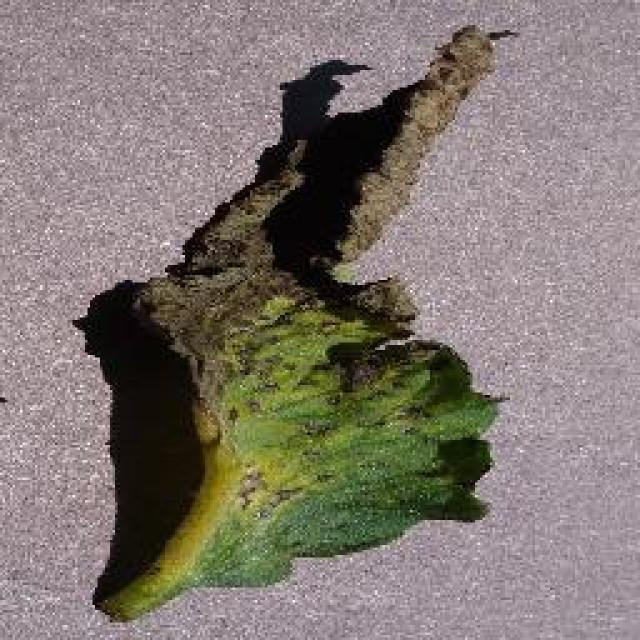Tomato___Septoria_leaf_spot: (100, 25, 510, 618)
